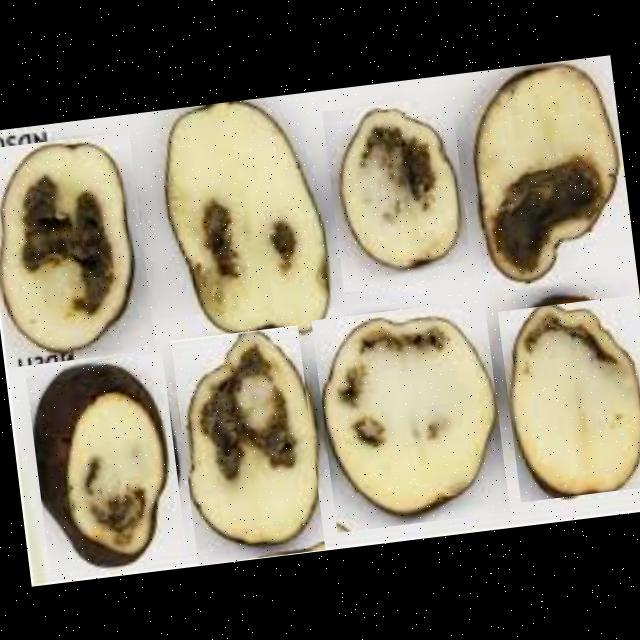Diseased-fungal potato: (132, 90, 354, 359), (310, 298, 508, 532), (169, 324, 324, 564), (23, 352, 187, 577), (462, 58, 628, 279), (0, 130, 154, 367), (496, 293, 640, 501), (321, 95, 472, 291)
